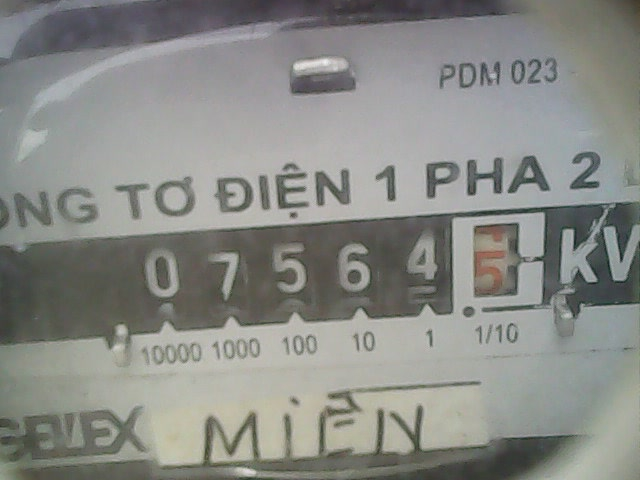phy_plate: (126, 209, 547, 327)
